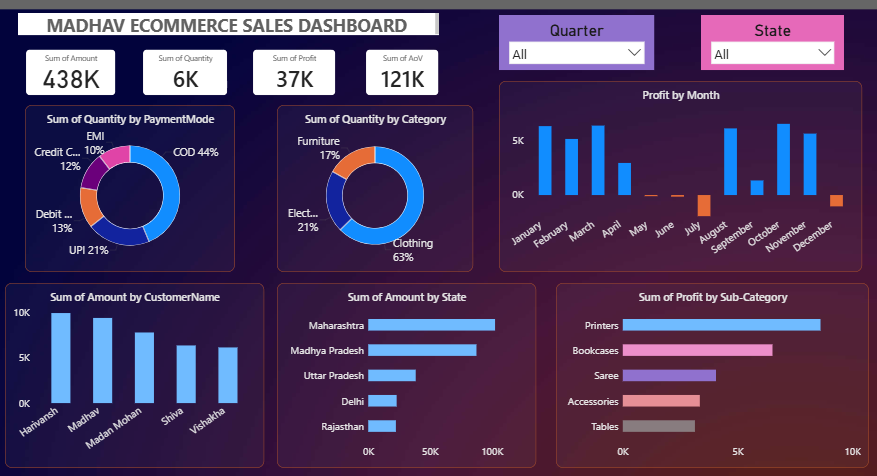

This screenshot's page, from the dashboard's own definition file:
{"tool":"powerbi","page":{"name":"Ecommerce Sales Dashboard ","canvas":[1920,1080],"ordinal":0},"visuals":[{"type":"textbox","box":[65.9,42.5,895,46.8],"z":0},{"type":"columnChart","title":"Profit by Month","fields":{"Category":["Orders.Order Date.Variation.Date Hierarchy.Month"],"Y":["Sum(Details.Profit)"]},"box":[1088.5,187.1,771.7,406.1],"z":1000},{"type":"barChart","fields":{"Category":["Details.Sub-Category"],"Y":["Sum(Details.Profit)"]},"box":[1209.7,616.5,665.4,393.3],"z":2000},{"type":"donutChart","fields":{"Category":["Details.Category"],"Y":["Sum(Details.Quantity)"]},"box":[616.5,238.1,416.7,355],"z":3000},{"type":"donutChart","fields":{"Category":["Details.PaymentMode"],"Y":["Sum(Details.Quantity)"]},"box":[80.8,238.1,446.5,355],"z":4000},{"type":"cardVisual","fields":{"Data":["Sum(Details.Amount)"]},"box":[65.9,106.3,223.2,127.6],"z":5000},{"type":"cardVisual","title":"Sum of Quantity","fields":{"Data":["Sum(Details.Quantity)"]},"box":[314.6,106.3,212.6,127.6],"z":6000},{"type":"cardVisual","fields":{"Data":["Sum(Details.Profit)"]},"box":[548.5,106.3,208.3,127.6],"z":7000},{"type":"cardVisual","fields":{"Data":["Sum(Details.AoV)"]},"box":[788.7,106.3,187.1,127.6],"z":8000},{"type":"barChart","fields":{"Category":["Orders.State"],"Y":["Sum(Details.Amount)"]},"box":[616.5,616.5,550.6,393.3],"z":9000},{"type":"columnChart","fields":{"Category":["Orders.CustomerName"],"Y":["Sum(Details.Amount)"]},"box":[38.3,616.5,550.6,393.3],"z":10000},{"type":"slicer","title":"Quarter","fields":{"Values":["Orders.Order Date.Variation.Date Hierarchy.Quarter"]},"box":[1088.5,46.8,329.5,116.9],"z":11001},{"type":"slicer","title":"State","fields":{"Values":["Orders.State"]},"box":[1518,46.8,304,116.9],"z":11002}]}

Visuals, with their boxes on the page's 1920x1080 design canvas (x1, y1, x2, y2). These are canvas units, not pixel positions in the 877x476 screenshot, which may show the page scaled, cropped or inside an application window:
textbox: [66,42,961,89]
"Profit by Month" columnChart: [1088,187,1860,593]
barChart - Details.Sub-Category x Sum(Details.Profit): [1210,616,1875,1010]
donutChart - Details.Category x Sum(Details.Quantity): [616,238,1033,593]
donutChart - Details.PaymentMode x Sum(Details.Quantity): [81,238,527,593]
cardVisual - Sum(Details.Amount): [66,106,289,234]
"Sum of Quantity" cardVisual: [315,106,527,234]
cardVisual - Sum(Details.Profit): [548,106,757,234]
cardVisual - Sum(Details.AoV): [789,106,976,234]
barChart - Orders.State x Sum(Details.Amount): [616,616,1167,1010]
columnChart - Orders.CustomerName x Sum(Details.Amount): [38,616,589,1010]
"Quarter" slicer: [1088,47,1418,164]
"State" slicer: [1518,47,1822,164]
